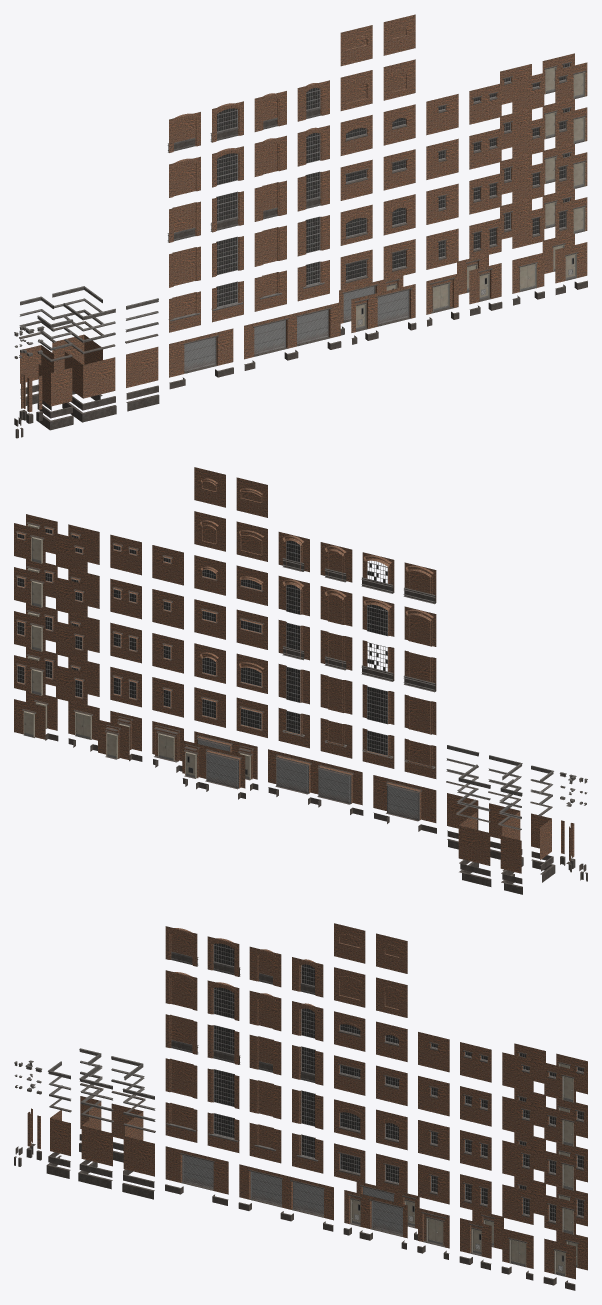
Rendered from modular_factory_facade.glb.
3 renders of one model, top to bottom at view 1: azimuth 30°, elevation 25°; view 2: azimuth 150°, elevation 25°; view 3: azimuth 330°, elevation 25°, orthographic.
Parts seen in each view (by area): view 1: door_garage_double_01, wall_standard_corner_large_01, wall_door_garage_double_01, door_garage_door_01, wall_door_garage_centered_01, wall_window_centered_medium_05, wall_window_tall_small_09, wall_standard_standard_01, wall_window_centered_large_05, wall_window_centered_medium_06, wall_window_tall_small_07, wall_window_centered_large_06 (+57 smaller); view 2: door_garage_double_01, door_garage_door_02, wall_door_garage_double_01, wall_door_garage_centered_01, wall_standard_corner_large_02, wall_window_tall_large_09, wall_window_tall_small_09, wall_window_tall_large_07, wall_window_tall_small_07, wall_window_tall_small_06, wall_window_tall_large_06, wall_window_centered_medium_06 (+62 smaller); view 3: door_garage_double_01, wall_door_garage_double_01, door_garage_door_01, wall_door_garage_centered_01, wall_standard_corner_large_01, wall_window_tall_large_09, wall_window_tall_large_07, wall_window_tall_small_07, wall_window_tall_small_09, wall_window_tall_small_06, wall_window_centered_large_05, wall_window_tall_large_06 (+67 smaller).
Boxes of the visible parts, x1,y1,x2,y2 form: door_garage_double_01: (253, 307, 331, 356); wall_standard_corner_large_01: (64, 352, 115, 398); wall_door_garage_double_01: (244, 302, 340, 359); door_garage_door_01: (355, 288, 412, 331); wall_door_garage_centered_01: (169, 328, 233, 377); wall_window_centered_medium_05: (383, 59, 415, 100); wall_window_tall_small_09: (254, 135, 286, 176); wall_standard_standard_01: (126, 347, 158, 387); wall_window_centered_large_05: (340, 70, 372, 110); wall_window_centered_medium_06: (383, 14, 415, 55); wall_window_tall_small_07: (254, 225, 286, 266); wall_window_centered_large_06: (340, 25, 372, 66); door_garage_double_01: (275, 754, 353, 804); door_garage_door_02: (184, 744, 241, 789); wall_door_garage_double_01: (268, 749, 362, 805); wall_door_garage_centered_01: (373, 775, 436, 822); wall_standard_corner_large_02: (458, 812, 490, 865); wall_window_tall_large_09: (404, 606, 436, 646); wall_window_tall_small_09: (320, 586, 352, 626); wall_window_tall_large_07: (404, 694, 436, 734); wall_window_tall_small_07: (320, 674, 352, 714); wall_window_tall_small_06: (320, 718, 352, 758); wall_window_tall_large_06: (404, 738, 436, 778); wall_window_centered_medium_06: (194, 467, 225, 507); door_garage_double_01: (248, 1169, 324, 1217); wall_door_garage_double_01: (239, 1164, 333, 1220); door_garage_door_01: (348, 1194, 403, 1236); wall_door_garage_centered_01: (165, 1146, 228, 1194); wall_standard_corner_large_01: (81, 1112, 112, 1166); wall_window_tall_large_09: (165, 970, 197, 1010); wall_window_tall_large_07: (165, 1058, 197, 1098); wall_window_tall_small_07: (249, 1079, 281, 1119); wall_window_tall_small_09: (249, 991, 281, 1031); wall_window_tall_small_06: (249, 1123, 281, 1163); wall_window_centered_large_05: (334, 967, 365, 1007); wall_window_tall_large_06: (165, 1102, 197, 1142).
Bounding box in the file's own units: 53.33 × 29 × 5.36.
6 materials, 6 textured.
